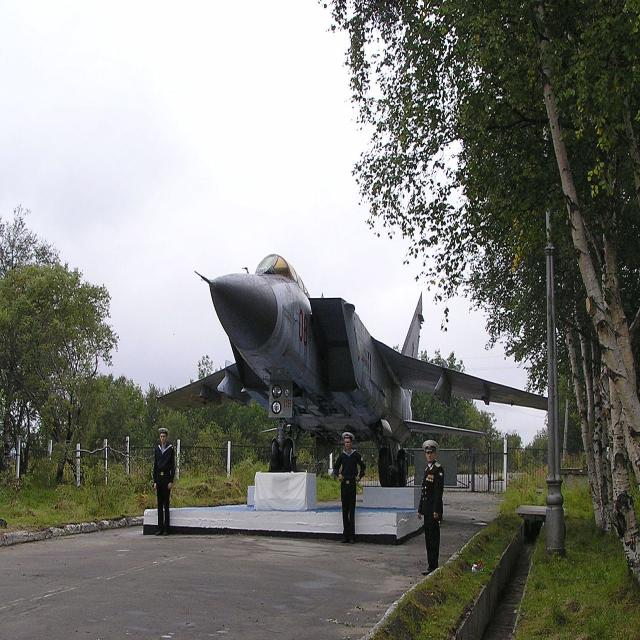MIL_Plane: (152, 254, 548, 486)
